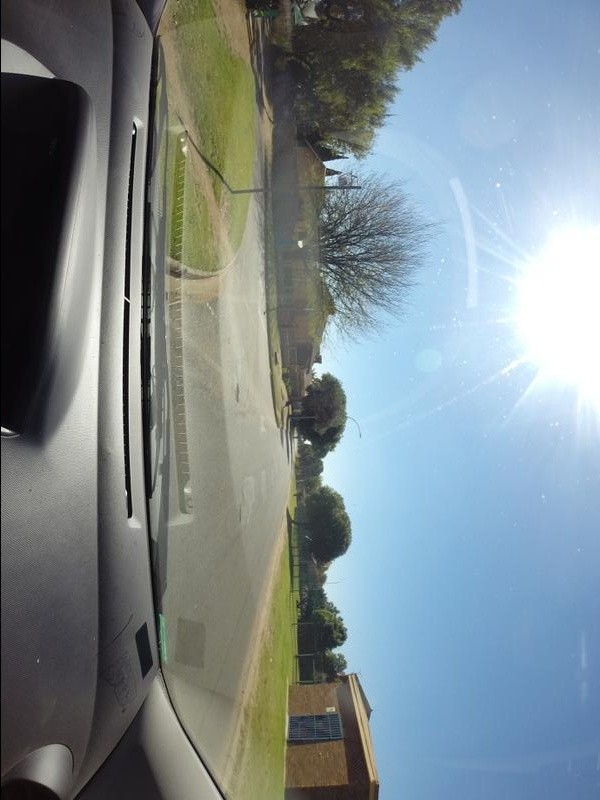pothole: (232, 378, 243, 407), (237, 505, 245, 526)
